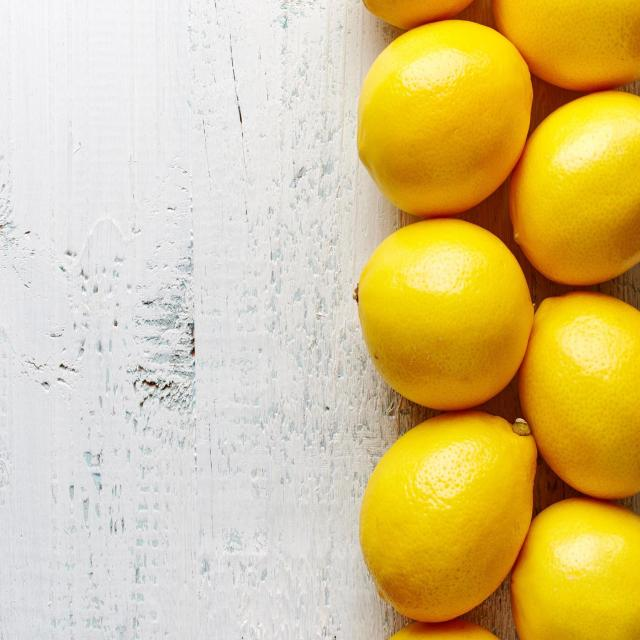lemon: (354, 403, 540, 630), (349, 212, 538, 416), (352, 15, 536, 220)
